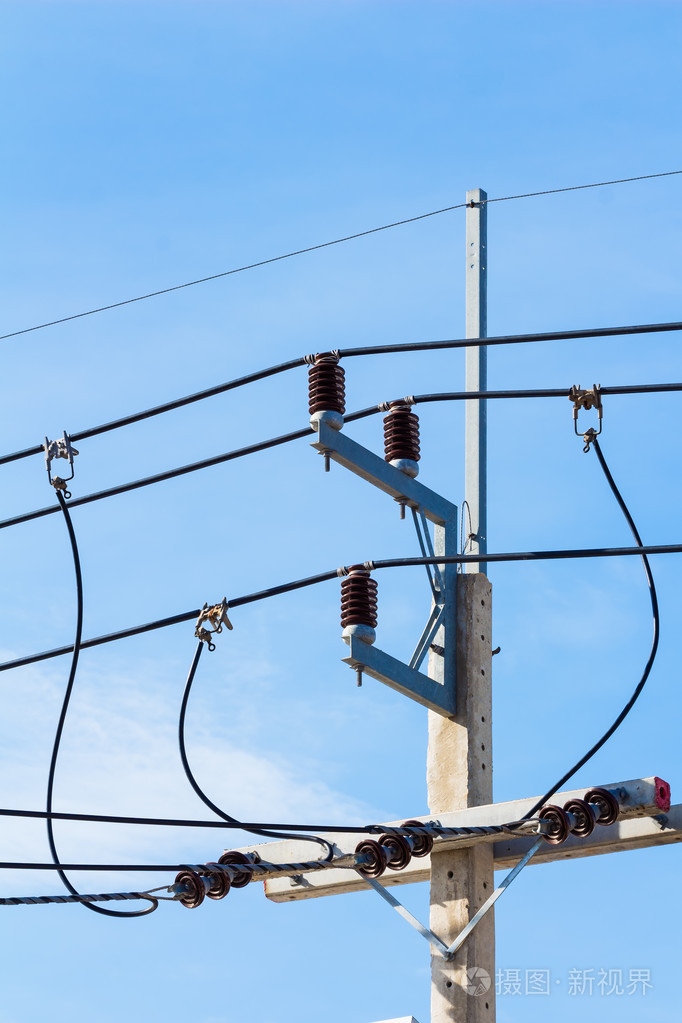insulator: (539, 787, 624, 843), (355, 819, 435, 875), (178, 854, 256, 908)
